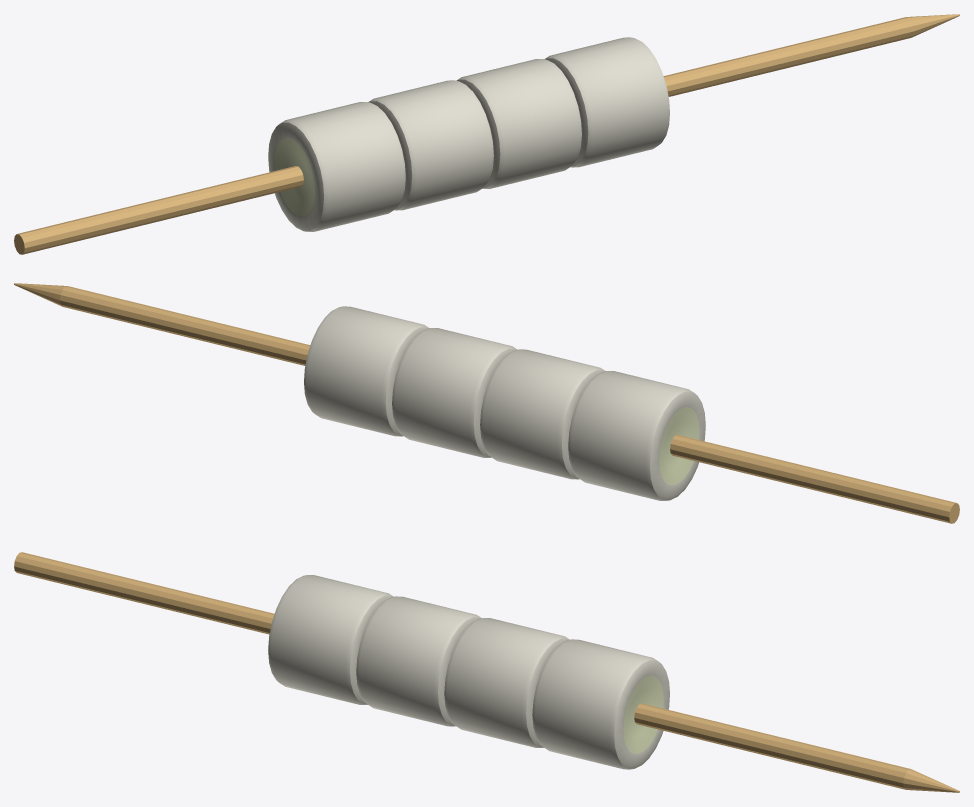
Rendered from Raw_Negi_Skewer.fbx.
3 renders of one model, top to bottom at view 1: azimuth 30°, elevation 25°; view 2: azimuth 150°, elevation 25°; view 3: azimuth 330°, elevation 25°, orthographic.
Visible parts, largest first — view 1: Raw_Negi_Skewer; view 2: Raw_Negi_Skewer; view 3: Raw_Negi_Skewer.
Part boxes in pixels (x1,y1,x2,y2): Raw_Negi_Skewer: (14,14,959,254); Raw_Negi_Skewer: (14,283,959,523); Raw_Negi_Skewer: (14,552,959,792).
Bounding box in the file's own units: 0.222 × 0.0236 × 0.0236.
